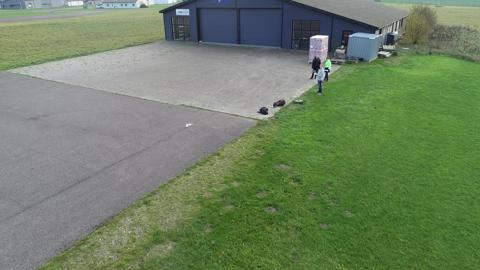RockwoolPallet: (309, 34, 329, 63)
